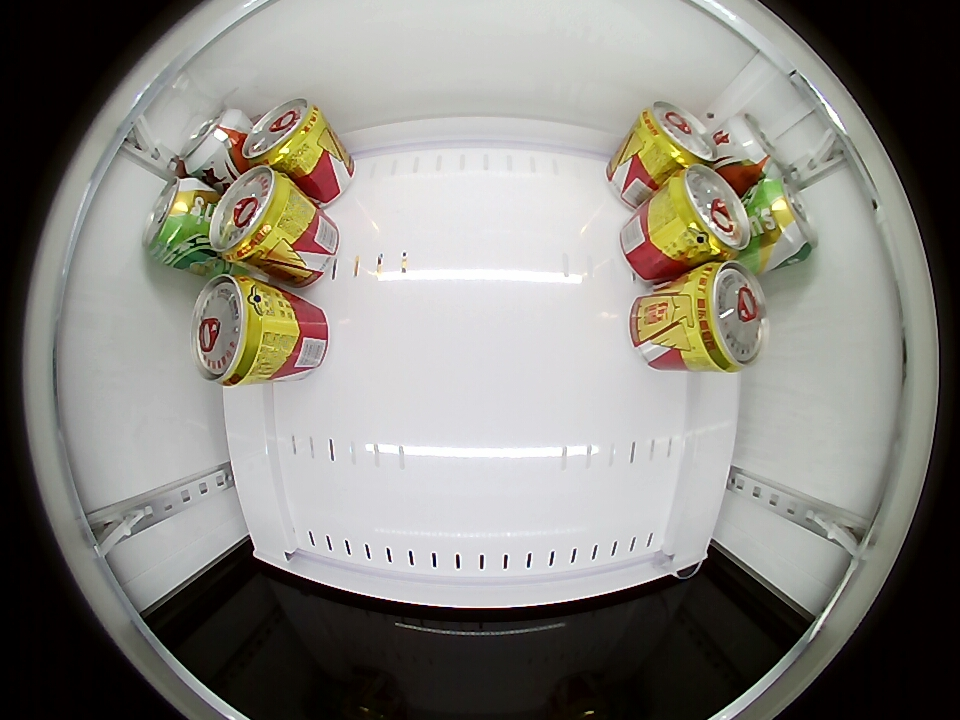dongpeng: (191, 273, 279, 388), (681, 261, 768, 373), (208, 165, 299, 264), (662, 163, 752, 262), (240, 98, 325, 169), (638, 101, 717, 169)
jianlibao: (176, 108, 247, 179), (721, 113, 781, 181)
quchenshixiangcao: (142, 177, 204, 265), (758, 176, 817, 263)
